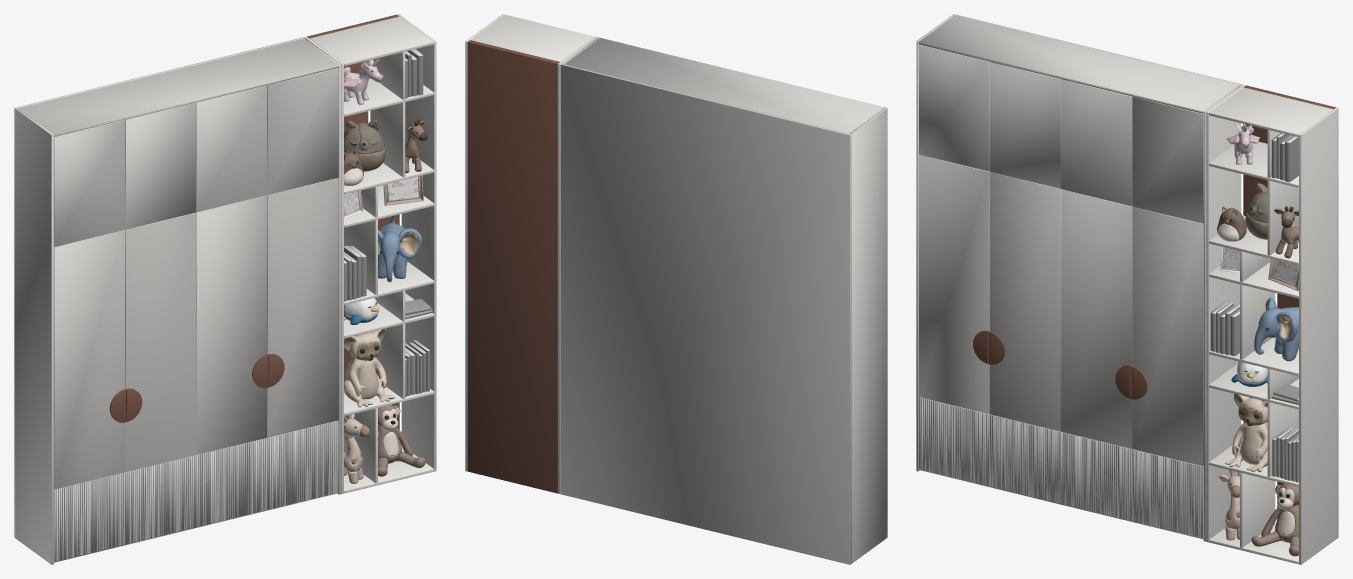
File: kids-room-8.mobile.glb
The picture shows the model from 3 angles, left to right: view 1: azimuth 30°, elevation 25°; view 2: azimuth 150°, elevation 25°; view 3: azimuth 330°, elevation 25°; orthographic projection.
Visible parts, largest first — view 1: kids-room-8 | White_lak_for_Furniture_Composition_2, kids-room-8 | white_lak_for_Furniture_composition, kids-room-8 | Gray_lak_for_Furniture_Composition, kids-room-8 | Lenivec_plush, kids-room-8 | Plush_blue_for_elephant, kids-room-8 | Monkey_plush_light, kids-room-8 | Plush_light, kids-room-8 | Jiraffe_plush, kids-room-8 | Unicorn_plush_white, kids-room-8 | Monkey_dark_plush, kids-room-8 | Jiraffe_soft_plush_beige, kids-room-8 | Lenivec_plush_light (+5 smaller); view 2: kids-room-8 | White_lak_for_Furniture_Composition_2, kids-room-8 | Gray_lak_for_Furniture_Composition, kids-room-8 | white_lak_for_Furniture_composition; view 3: kids-room-8 | White_lak_for_Furniture_Composition_2, kids-room-8 | white_lak_for_Furniture_composition, kids-room-8 | Gray_lak_for_Furniture_Composition, kids-room-8 | Lenivec_plush, kids-room-8 | Plush_blue_for_elephant, kids-room-8 | Monkey_plush_light, kids-room-8 | book_012, kids-room-8 | Jiraffe_plush, kids-room-8 | Jiraffe_soft_plush_beige, kids-room-8 | Monkey_dark_plush, kids-room-8 | str_for_books, kids-room-8 | Plush_light (+3 smaller).
Boxes of the visible parts, x1,y1,x2,y2 form: kids-room-8 | White_lak_for_Furniture_Composition_2: [14, 37, 341, 564]; kids-room-8 | white_lak_for_Furniture_composition: [304, 14, 436, 493]; kids-room-8 | Gray_lak_for_Furniture_Composition: [109, 14, 399, 429]; kids-room-8 | Lenivec_plush: [344, 328, 394, 406]; kids-room-8 | Plush_blue_for_elephant: [378, 215, 422, 282]; kids-room-8 | Monkey_plush_light: [378, 404, 425, 476]; kids-room-8 | Plush_light: [344, 120, 385, 153]; kids-room-8 | Jiraffe_plush: [344, 414, 363, 483]; kids-room-8 | Unicorn_plush_white: [344, 59, 380, 104]; kids-room-8 | Monkey_dark_plush: [381, 408, 399, 455]; kids-room-8 | Jiraffe_soft_plush_beige: [405, 120, 424, 171]; kids-room-8 | Lenivec_plush_light: [344, 329, 394, 407]; kids-room-8 | White_lak_for_Furniture_Composition_2: [560, 37, 887, 564]; kids-room-8 | Gray_lak_for_Furniture_Composition: [467, 40, 559, 493]; kids-room-8 | white_lak_for_Furniture_composition: [465, 14, 597, 493]; kids-room-8 | White_lak_for_Furniture_Composition_2: [916, 14, 1242, 541]; kids-room-8 | white_lak_for_Furniture_composition: [1206, 85, 1338, 564]; kids-room-8 | Gray_lak_for_Furniture_Composition: [973, 85, 1335, 507]; kids-room-8 | Lenivec_plush: [1225, 393, 1267, 471]; kids-room-8 | Plush_blue_for_elephant: [1254, 298, 1298, 361]; kids-room-8 | Monkey_plush_light: [1251, 483, 1298, 556]; kids-room-8 | book_012: [1230, 309, 1298, 401]; kids-room-8 | Jiraffe_plush: [1219, 474, 1239, 540]; kids-room-8 | Jiraffe_soft_plush_beige: [1274, 208, 1298, 257]; kids-room-8 | Monkey_dark_plush: [1276, 486, 1294, 535]; kids-room-8 | str_for_books: [1211, 133, 1298, 443]; kids-room-8 | Plush_light: [1247, 183, 1267, 222].
Bounding box in the file's own units: 2.81 × 3 × 0.5101.
Materials: 56 (3 with a texture image).
